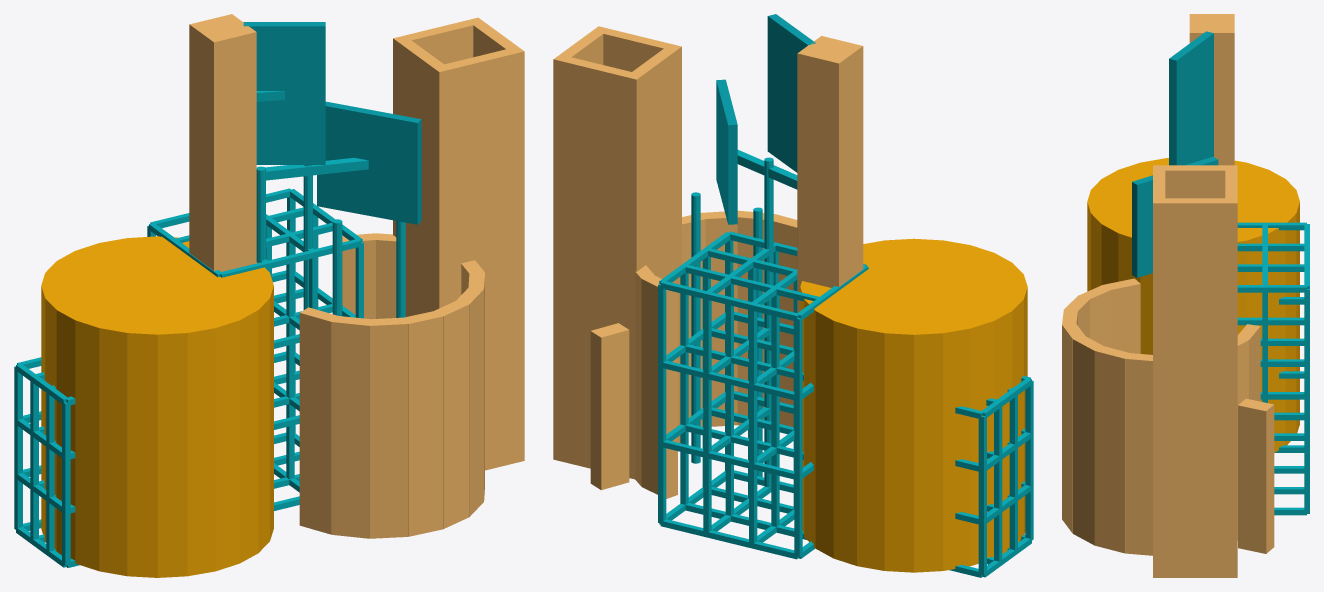
The model's file is folie_tag_006.glb.
3 renders of one model, left to right at view 1: azimuth 30°, elevation 25°; view 2: azimuth 150°, elevation 25°; view 3: azimuth 270°, elevation 25°, orthographic. The views are drawn at different scales.
Visible parts, largest first — view 1: folie_tag_006_00_drum, folie_tag_006_03_curve, folie_tag_006_02_tower, folie_tag_006_core, folie_tag_006_01_cage, folie_tag_006_06_panel, folie_tag_006_05_panel, folie_tag_006_04_cage, folie_tag_006_line; view 2: folie_tag_006_00_drum, folie_tag_006_02_tower, folie_tag_006_01_cage, folie_tag_006_core, folie_tag_006_03_curve, folie_tag_006_04_cage, folie_tag_006_07_fin, folie_tag_006_line, folie_tag_006_05_panel, folie_tag_006_06_panel; view 3: folie_tag_006_02_tower, folie_tag_006_03_curve, folie_tag_006_00_drum, folie_tag_006_01_cage, folie_tag_006_07_fin, folie_tag_006_05_panel, folie_tag_006_core, folie_tag_006_06_panel.
Boxes of the visible parts, <box> form: folie_tag_006_00_drum: <box>41,236,273,577</box>; folie_tag_006_03_curve: <box>299,233,484,538</box>; folie_tag_006_02_tower: <box>393,17,524,470</box>; folie_tag_006_core: <box>189,14,256,271</box>; folie_tag_006_01_cage: <box>147,188,363,510</box>; folie_tag_006_06_panel: <box>317,101,421,224</box>; folie_tag_006_05_panel: <box>243,22,325,164</box>; folie_tag_006_04_cage: <box>14,357,79,567</box>; folie_tag_006_line: <box>256,91,405,317</box>; folie_tag_006_00_drum: <box>800,238,1027,572</box>; folie_tag_006_02_tower: <box>553,26,681,479</box>; folie_tag_006_01_cage: <box>658,231,869,559</box>; folie_tag_006_core: <box>797,36,863,312</box>; folie_tag_006_03_curve: <box>635,210,797,498</box>; folie_tag_006_04_cage: <box>949,376,1033,577</box>; folie_tag_006_07_fin: <box>590,323,629,490</box>; folie_tag_006_line: <box>691,150,797,489</box>; folie_tag_006_05_panel: <box>767,14,815,172</box>; folie_tag_006_06_panel: <box>716,79,737,224</box>; folie_tag_006_02_tower: <box>1153,165,1237,577</box>; folie_tag_006_03_curve: <box>1062,278,1260,555</box>; folie_tag_006_00_drum: <box>1087,158,1299,452</box>; folie_tag_006_01_cage: <box>1237,222,1309,515</box>; folie_tag_006_07_fin: <box>1238,398,1274,553</box>; folie_tag_006_05_panel: <box>1169,31,1213,165</box>; folie_tag_006_core: <box>1189,14,1234,165</box>; folie_tag_006_06_panel: <box>1132,156,1218,277</box>.
Size of the model in its own units: 11.67 by 11.78 by 6.06.
